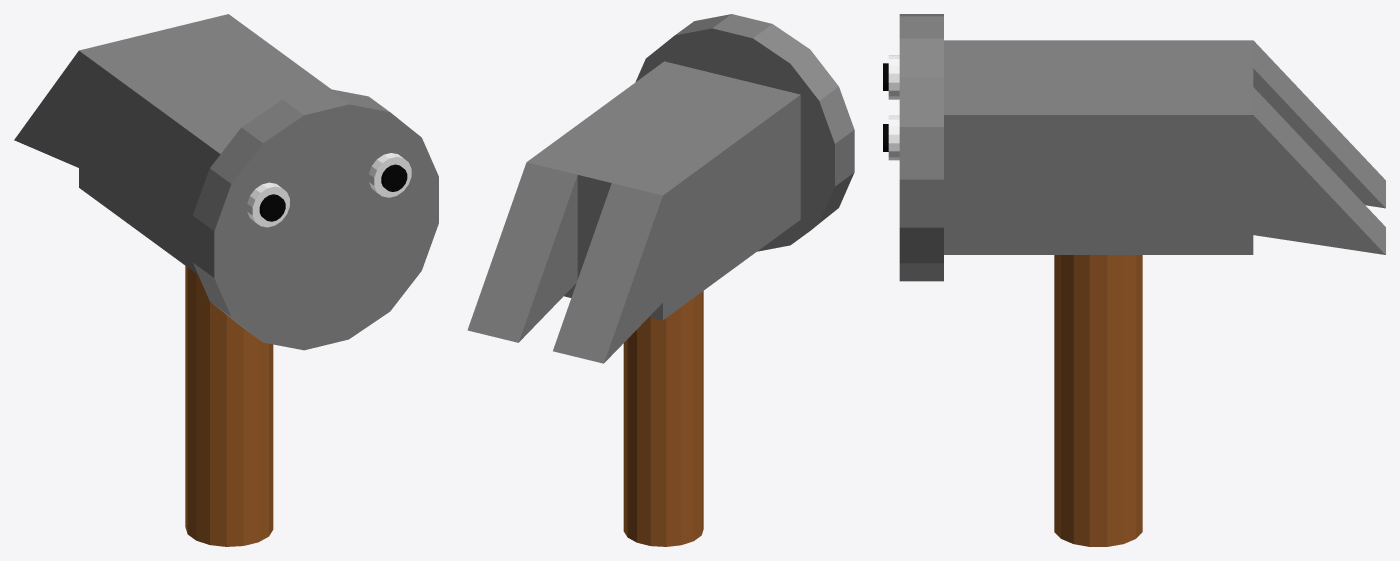
Rendered from Hammer.fbx.
The picture shows the model from 3 angles, left to right: view 1: azimuth 30°, elevation 25°; view 2: azimuth 150°, elevation 25°; view 3: azimuth 270°, elevation 25°; orthographic projection. The views are drawn at different scales.
Parts seen in each view (by area): view 1: head, body, handle, plier, pupil, pupil_1, iris, iris_1; view 2: body, plier, handle, head; view 3: body, handle, plier, head.
Part boxes in pixels (x1=…): head: x1=192, y1=88, x2=438, y2=350; body: x1=79, y1=14, x2=330, y2=274; handle: x1=185, y1=266, x2=273, y2=546; plier: x1=14, y1=51, x2=78, y2=167; pupil: x1=368, y1=153, x2=411, y2=197; pupil_1: x1=247, y1=182, x2=289, y2=227; iris: x1=381, y1=164, x2=407, y2=191; iris_1: x1=259, y1=194, x2=285, y2=221; body: x1=527, y1=61, x2=800, y2=320; plier: x1=467, y1=162, x2=662, y2=363; handle: x1=623, y1=291, x2=703, y2=546; head: x1=635, y1=14, x2=854, y2=251; body: x1=944, y1=40, x2=1253, y2=254; handle: x1=1054, y1=255, x2=1142, y2=546; plier: x1=1253, y1=40, x2=1385, y2=254; head: x1=899, y1=14, x2=943, y2=281.
Size of the model in its own units: 75 by 156 by 142.
4 materials, 4 textured.
